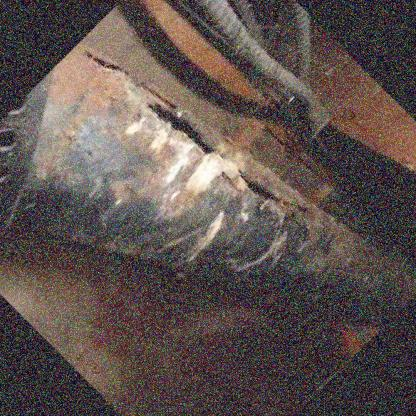burst: (151, 110, 219, 162), (236, 173, 302, 216)
